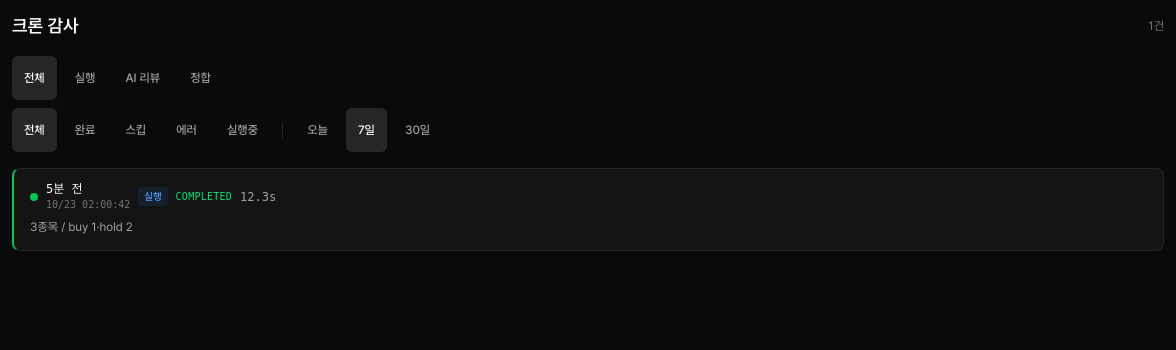
CronRunsPage › 구 레코드(컨플루언스·의회 없음)도 나머지 축만으로 렌더된다
Expected: the text "COMPLETED" is shown, 176,189 -> 232,204
Click the button "5분 전 10/23 02:00:42 실행 COMPLETED 12.3s 3종목 / buy 1·hold 2" at (64, 189), box 14,169 -> 1163,250
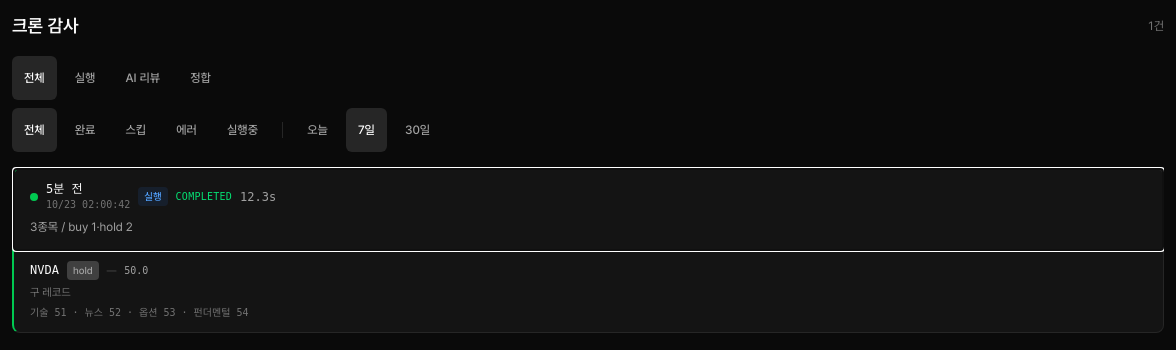
Expected: the text "기술 51 · 뉴스 52 · 옵션 53 · 펀더멘털 54" does not show "컨플루언스", 30,307 -> 248,318
Now the text "NVDA" is shown, box 30,262 -> 59,278
Now the text "기술 51 · 뉴스 52 · 옵션 53 · 펀더멘털 54" is shown, box 30,307 -> 248,318
